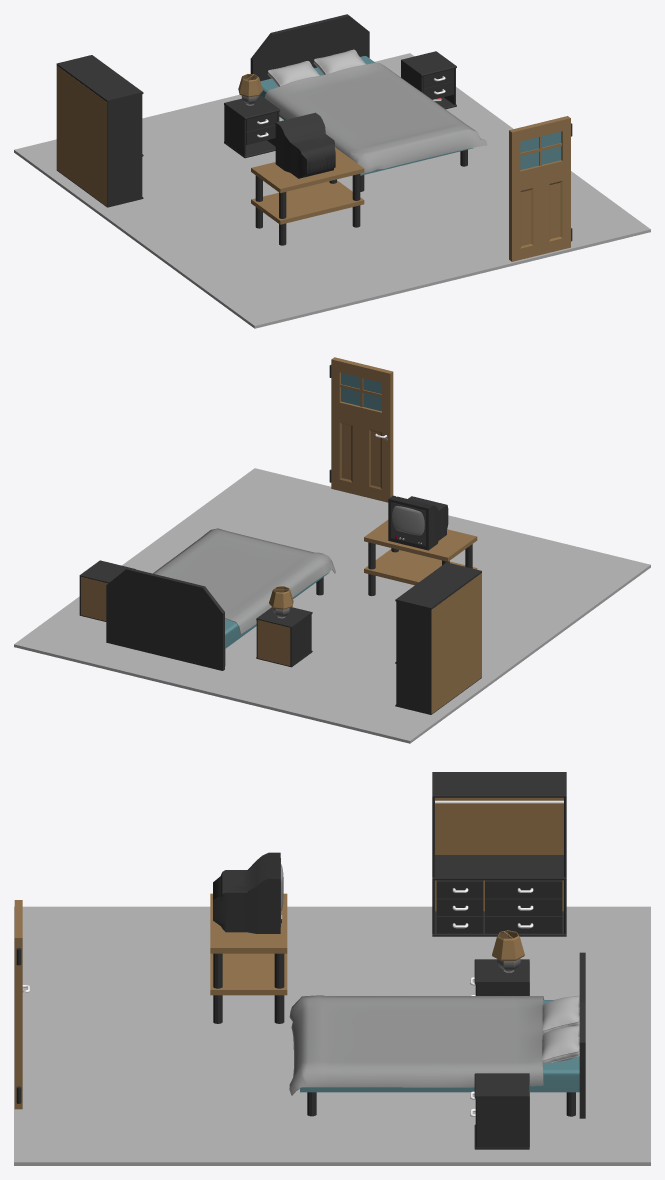
File: room1.fbx
The picture shows the model from 3 angles, top to bottom: view 1: azimuth 30°, elevation 25°; view 2: azimuth 150°, elevation 25°; view 3: azimuth 270°, elevation 25°; orthographic projection. The views are drawn at different scales.
Visible parts, largest first — view 1: Floor, bed, closet, door, TV_table, TV, Bedk2, Bedk1, Lamp; view 2: Floor, bed, closet, door, TV_table, Bedk2, TV, Bedk1, Lamp; view 3: Floor, bed, closet, TV_table, TV, Bedk1, door, Bedk2, closetR1, closetR2, closetR3, Lamp (+3 smaller).
Boxes of the visible parts, x1,y1,x2,y2 form: Floor: (14,53,650,328); bed: (250,14,487,191); closet: (56,55,143,207); door: (509,116,572,261); TV_table: (251,147,364,245); TV: (275,112,335,178); Bedk2: (224,95,280,158); Bedk1: (401,51,456,109); Lamp: (238,74,262,105); Floor: (14,468,650,743); bed: (106,528,335,670); closet: (395,562,481,714); door: (329,357,393,502); TV_table: (364,520,477,596); Bedk2: (256,607,312,667); TV: (388,495,448,550); Bedk1: (79,560,135,621); Lamp: (269,586,293,618); Floor: (14,906,650,1165); bed: (289,952,585,1118); closet: (432,772,566,936); TV_table: (210,893,287,1023); TV: (213,852,283,933); Bedk1: (474,1073,529,1149); door: (14,900,29,1109); Bedk2: (474,959,529,995); closetR1: (485,880,562,898); closetR2: (485,898,562,916); closetR3: (485,916,562,933); Lamp: (492,930,524,972).
Size of the model in its own units: 26.32 by 8.46 by 27.71.
